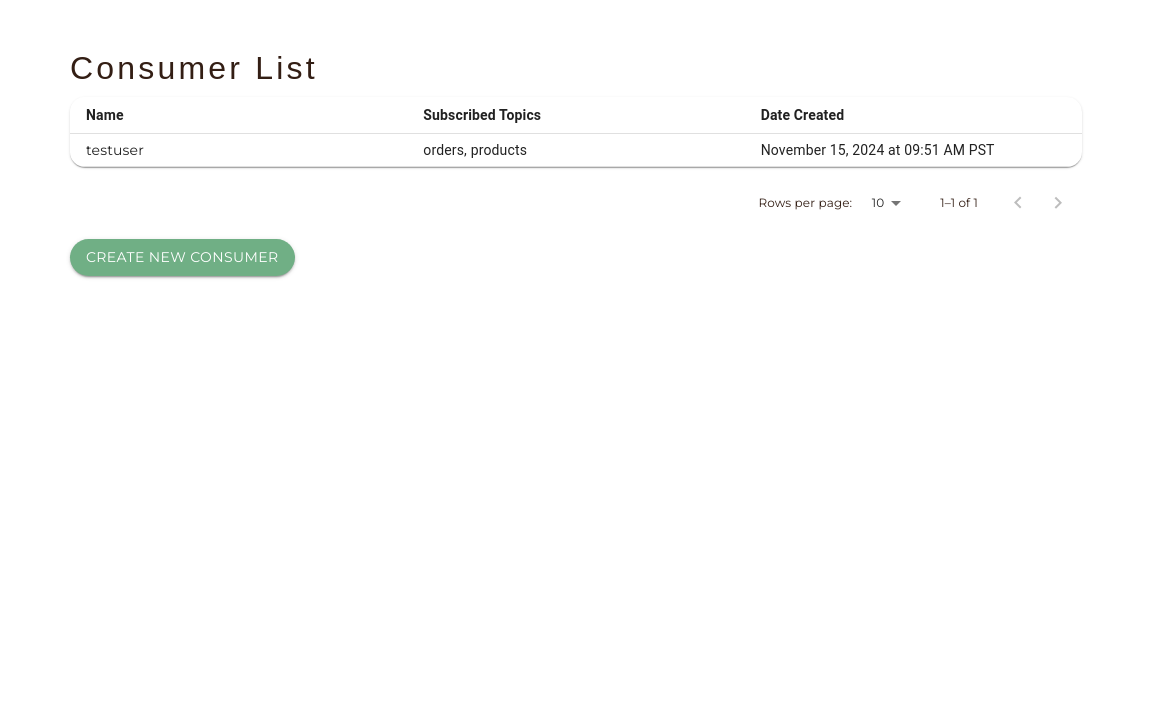
Testing Consumers component › Clicking a consumer name renders Consumer component and details
Click the link "testuser" at coordinates (115, 150), box [86,141,144,159]
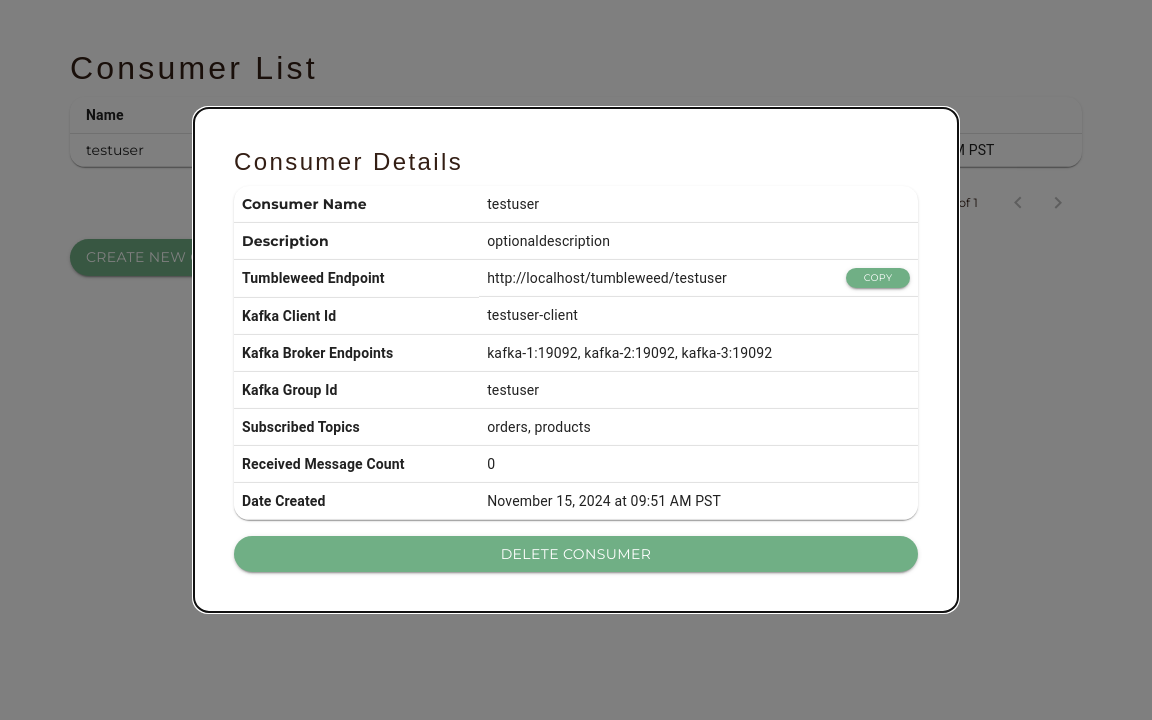
Expected: the heading "Consumer Details" is shown, [234,148,463,175]
